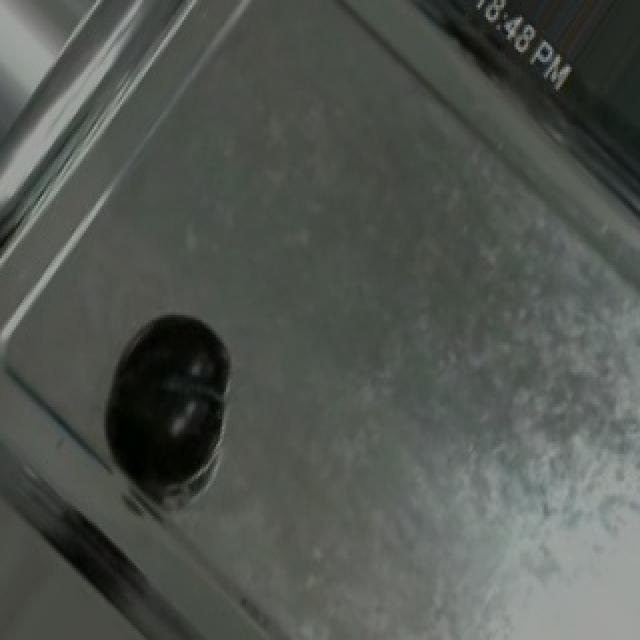Fruit: (86, 298, 244, 506)
